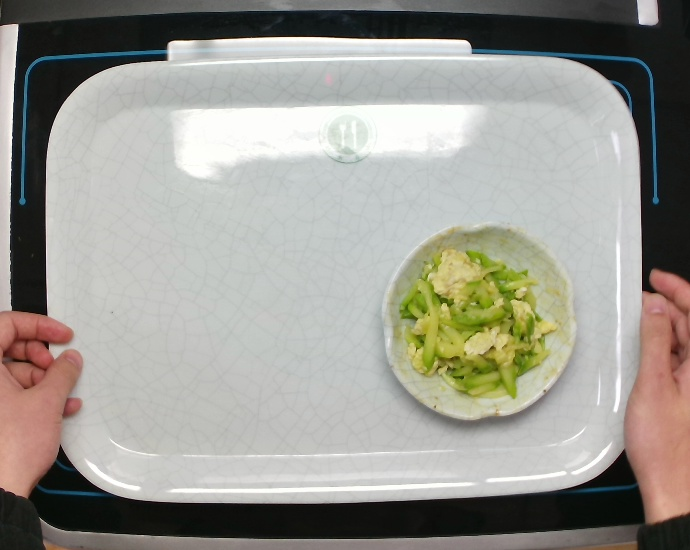JYsf-Ao_Yuan_Wan: (378, 221, 578, 428)
